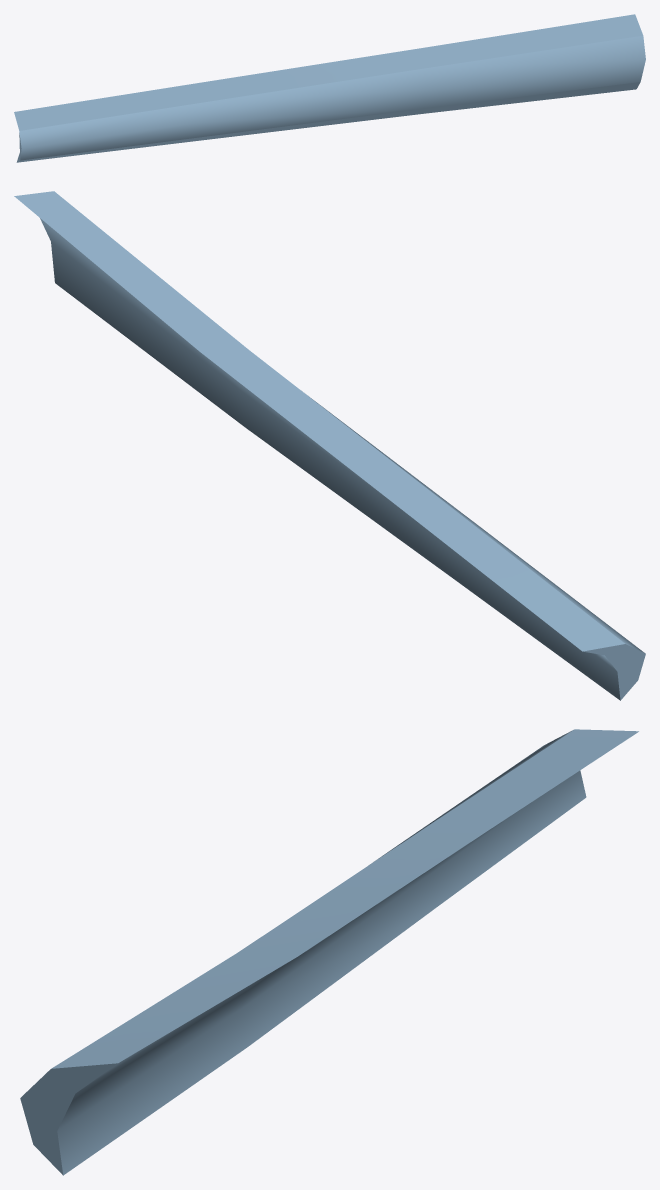
File: big wing slat Dwn R.FBX
3 views of the same model, one above another, from view 1: azimuth 30°, elevation 25°; view 2: azimuth 150°, elevation 25°; view 3: azimuth 270°, elevation 25° (orthographic). The views are drawn at different scales.
Parts seen in each view (by area): view 1: Group23; view 2: Group23; view 3: Group23.
Part boxes in pixels (x1=…): Group23: x1=14, y1=14, x2=645, y2=162; Group23: x1=14, y1=191, x2=645, y2=700; Group23: x1=20, y1=729, x2=638, y2=1175.
Size of the model in its own units: 0.1147 by 0.0607 by 0.0242.
